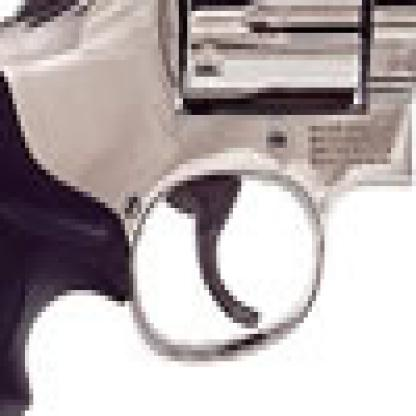gun: (0, 0, 412, 411)
